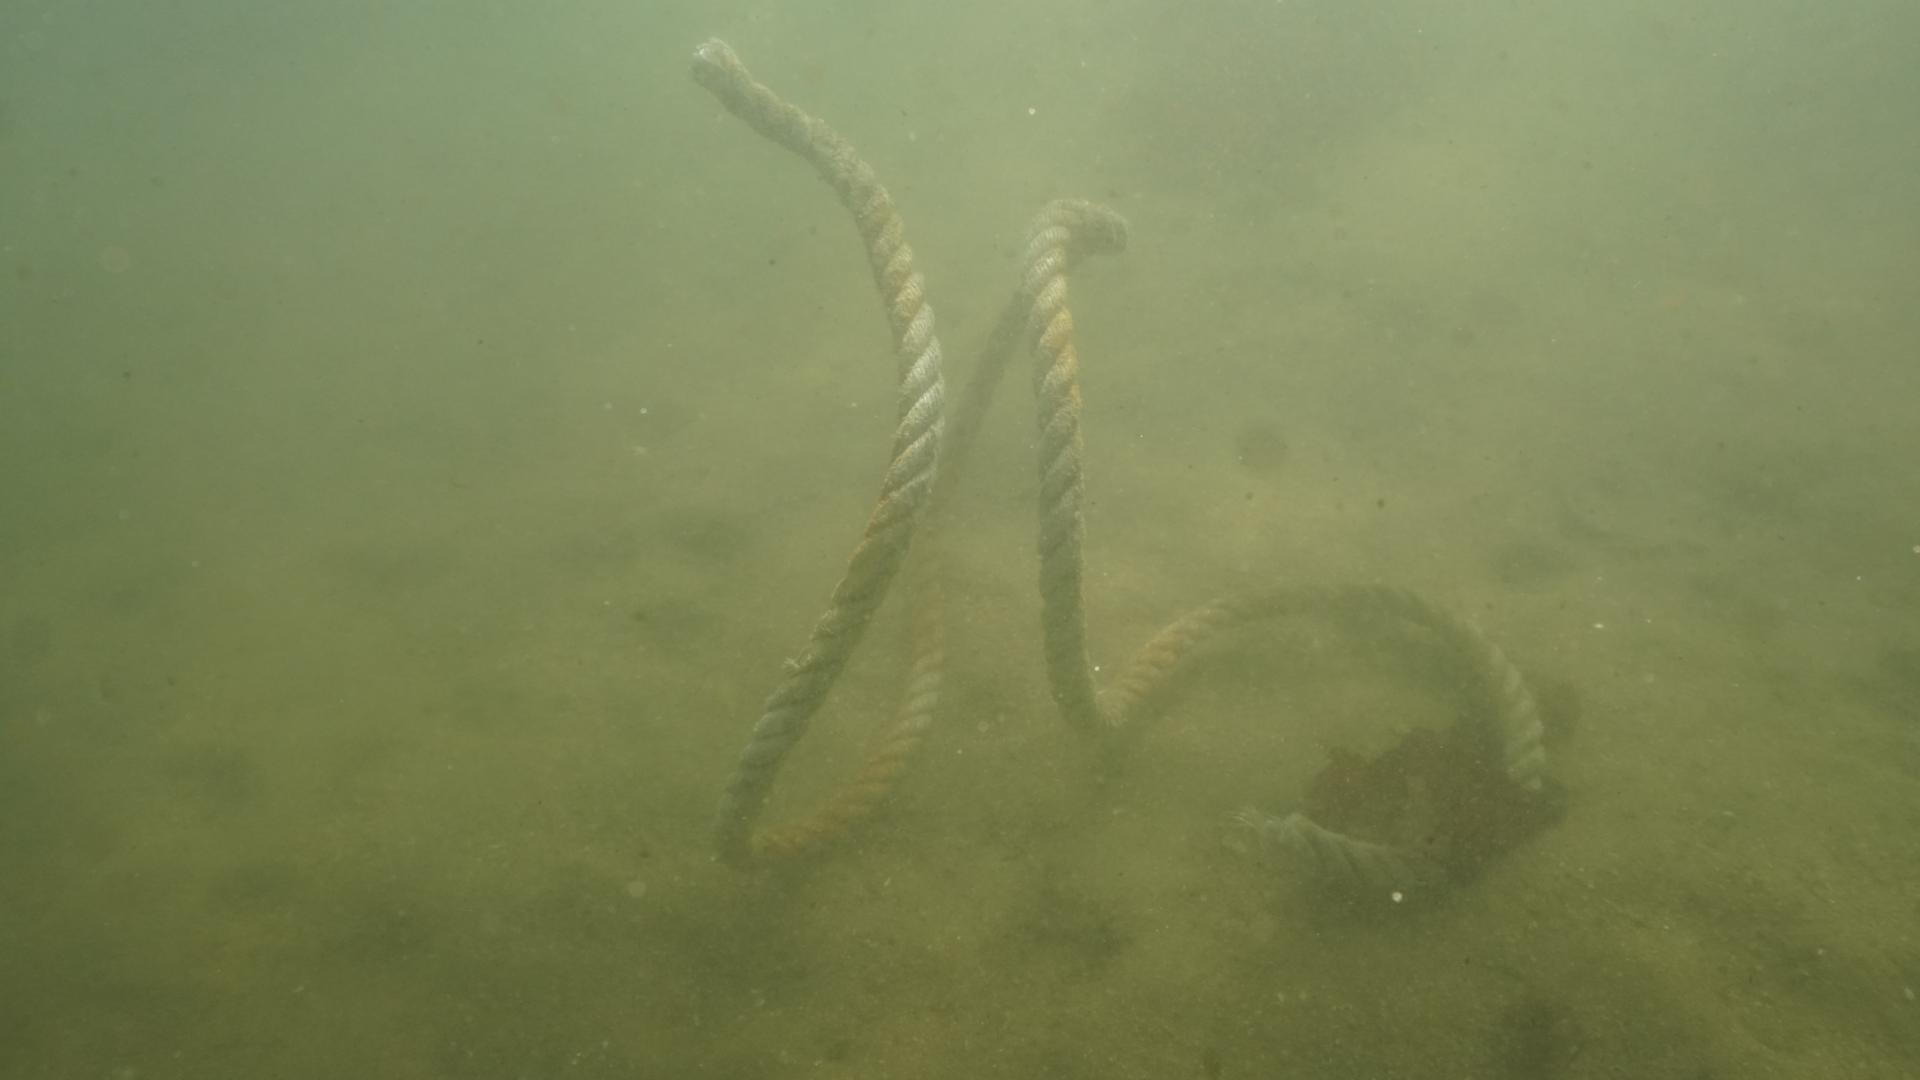rope: (679, 37, 1560, 905)
